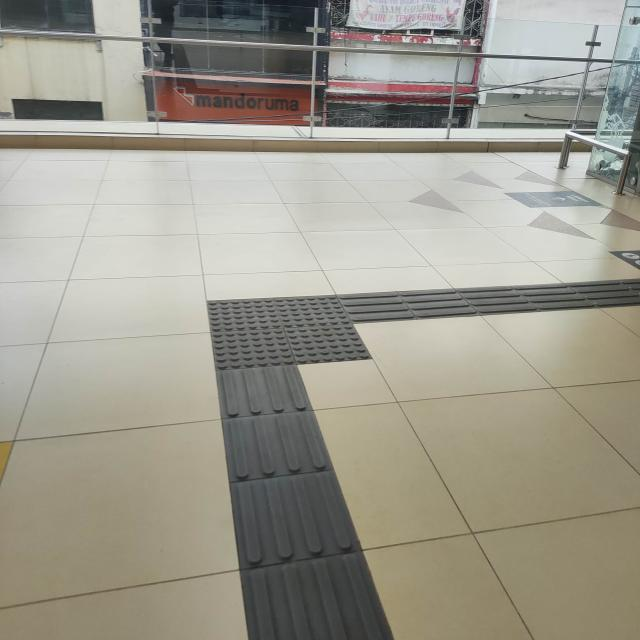kanan: (166, 264, 463, 407)
